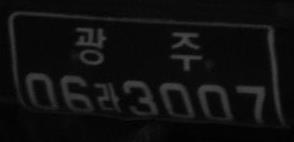0: (197, 84, 233, 123), (160, 81, 196, 119), (24, 71, 58, 111)
3: (123, 79, 159, 117)
6: (60, 74, 95, 113)
7: (235, 84, 265, 126)
광주_D: (75, 25, 203, 71)
라: (96, 82, 121, 114)
